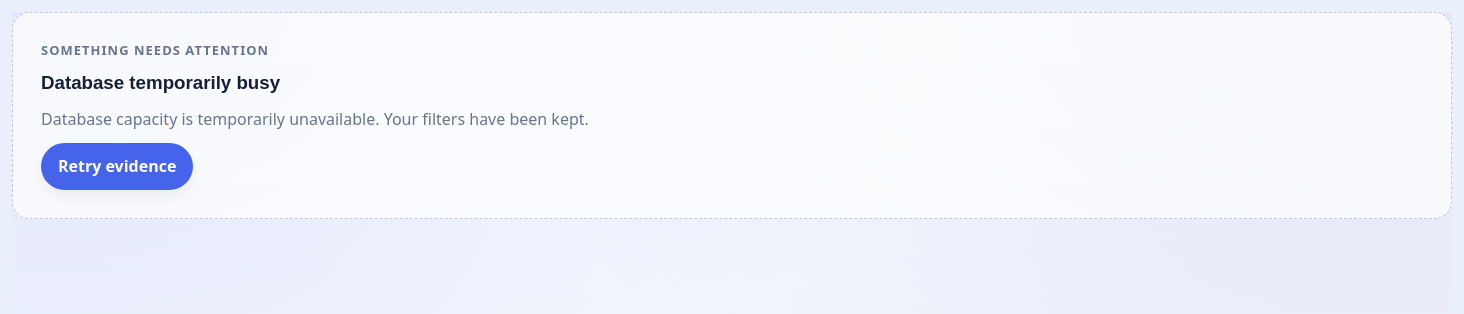
Test case: Evidence requests › shows loading, exact empty results and explicit error retry
The width and height of the screenshot is (1464, 314).
Later steps or results of the test are not shown.
What coordinates should you click on to do the following:
click the button "Retry evidence"
I would click on:
 (117, 166)
Its box is [41,143,193,190].
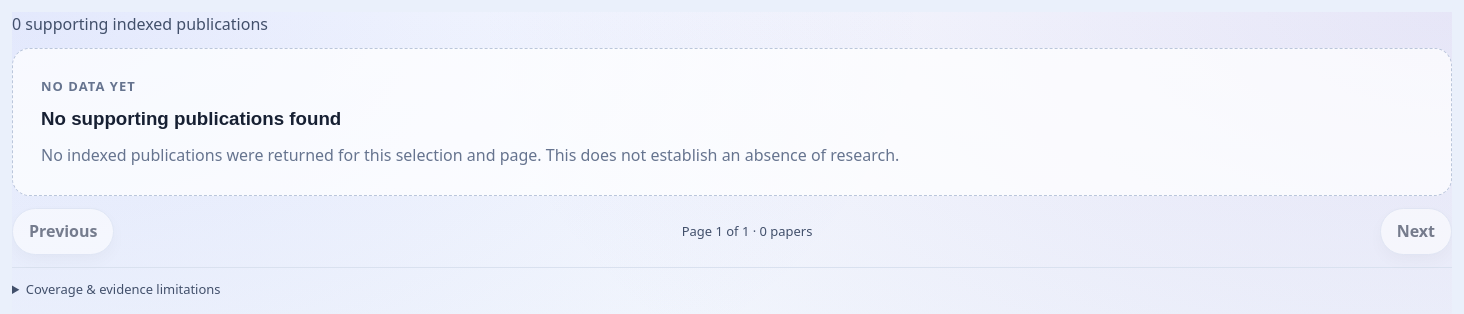
Check: the heading "No supporting publications found" is shown, box [41,108,341,129]
Check: the text "does not establish an absence of research" is shown, box [41,144,899,166]
